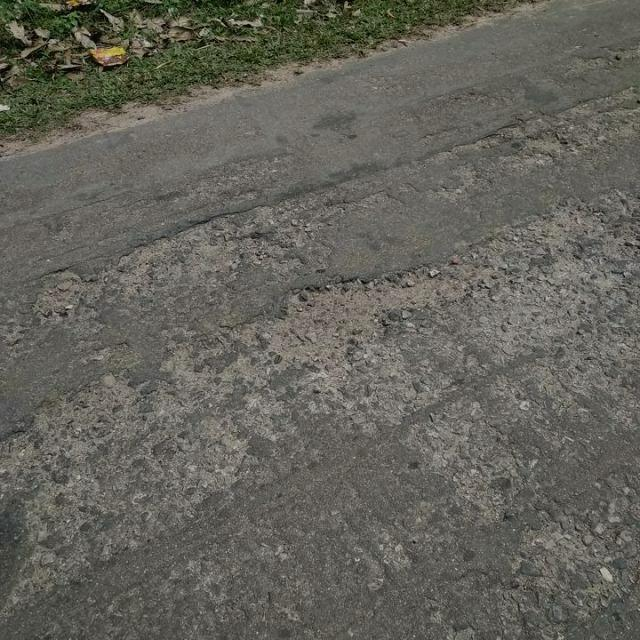Pothole: (263, 262, 476, 357), (109, 204, 288, 288), (33, 268, 91, 324)
